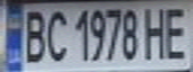1: (69, 6, 90, 62)
7: (106, 5, 124, 62)
8: (121, 3, 145, 61)
9: (87, 5, 109, 62)
B: (18, 6, 51, 64)
C: (42, 6, 69, 63)
E: (160, 2, 193, 61)
H: (139, 3, 172, 61)
